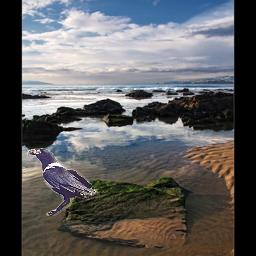Crow: (27, 148, 100, 216)
